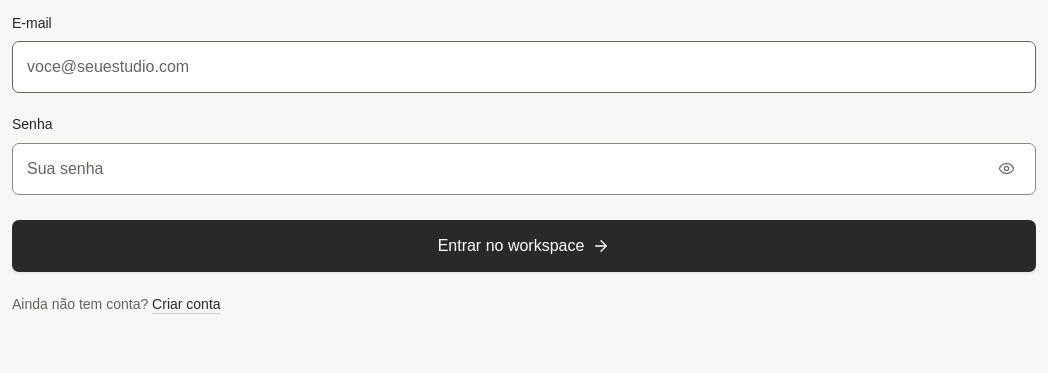
Test: Acesso ao workspace › preserva as credenciais digitadas quando o servidor recusa o login
The image size is (1048, 373).
In the field labelled "E-mail": [524, 67] box [12, 41, 1036, 93], type "pessoa@teste.com"
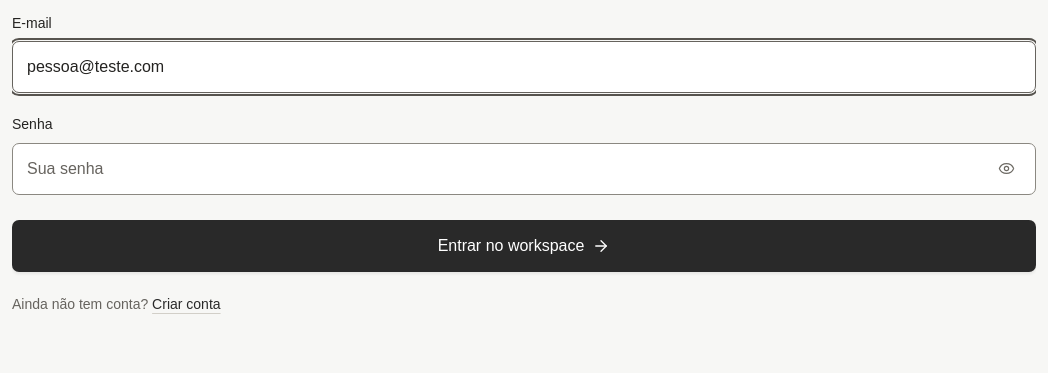
In the password field labelled "Senha": [524, 169] box [12, 143, 1036, 195], type "senha-incorreta"
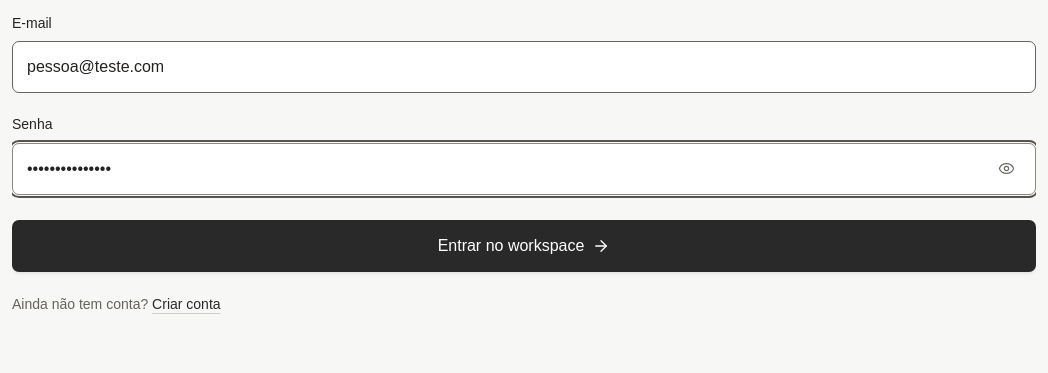
Click the button "Entrar no workspace": [524, 246] box [12, 220, 1036, 272]
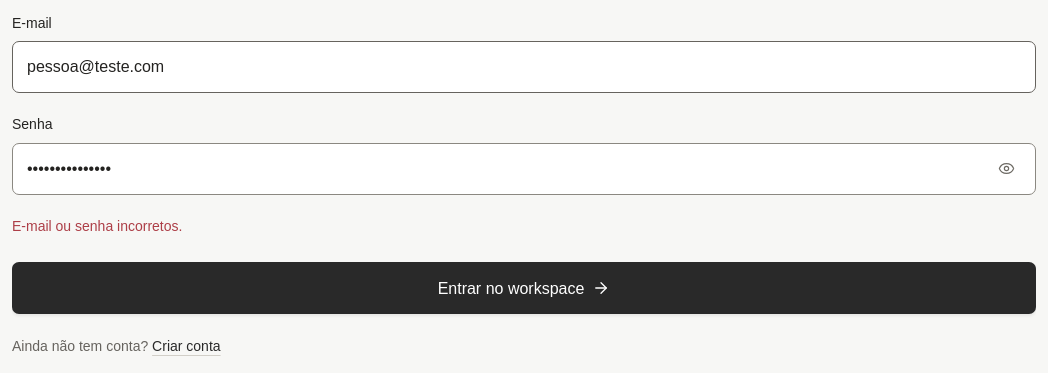
Expected: the message reads "E-mail ou senha incorretos.", [12, 218, 182, 234]
